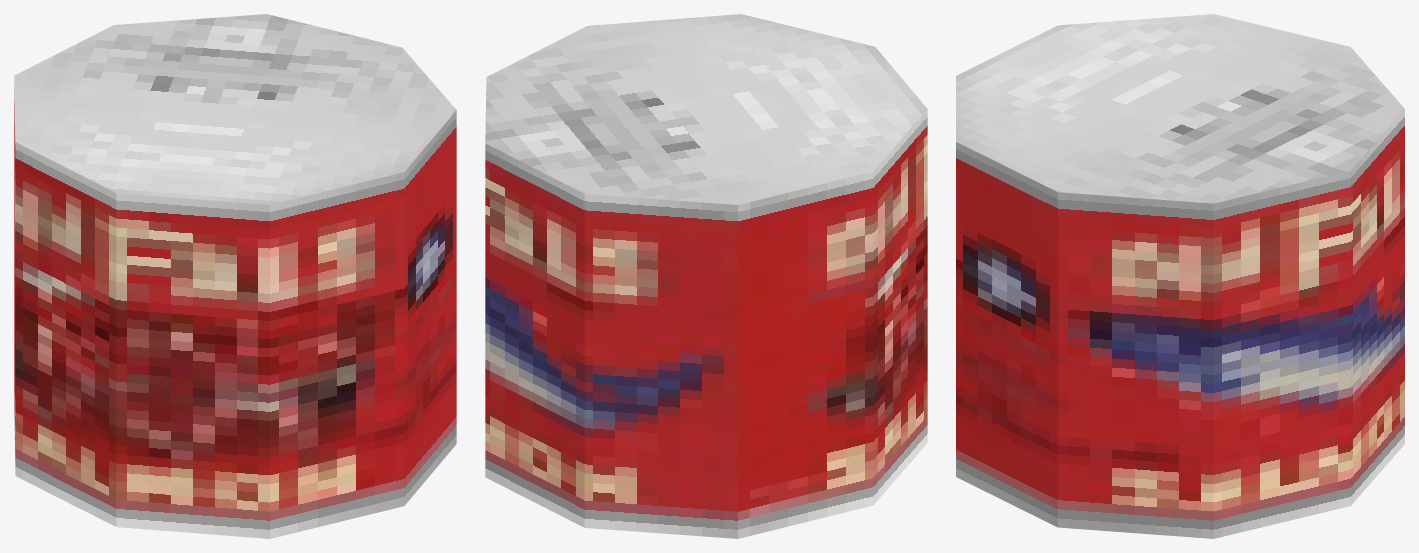
The model's file is food_canned_soup_5.glb.
3 views of the same model, side by side, from view 1: azimuth 30°, elevation 25°; view 2: azimuth 150°, elevation 25°; view 3: azimuth 270°, elevation 25° (orthographic).
Parts seen in each view (by area): view 1: Food_Canned_Soup_5; view 2: Food_Canned_Soup_5; view 3: Food_Canned_Soup_5.
Boxes of the visible parts, x1,y1,x2,y2 form: Food_Canned_Soup_5: [14, 14, 456, 538]; Food_Canned_Soup_5: [485, 14, 927, 538]; Food_Canned_Soup_5: [956, 14, 1404, 538].
Bounding box in the file's own units: 0.1016 × 0.0838 × 0.1016.
1 material, 1 textured.
